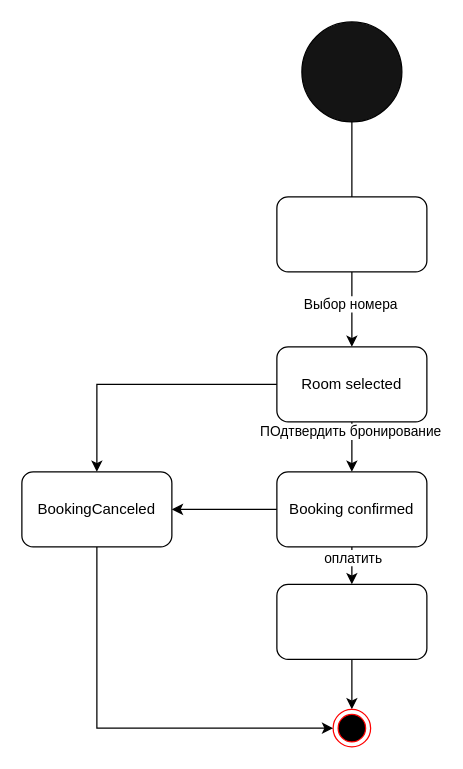
The diagram is 463 pixels wide and 769 high, and some of its shapes have lost their labels. The shapes that lost their labels are listed below. From the top down, each one's centre as x and y in pixels, then its label:
At pixel 351 234: "IDLE".
At pixel 351 621: "Paid".
